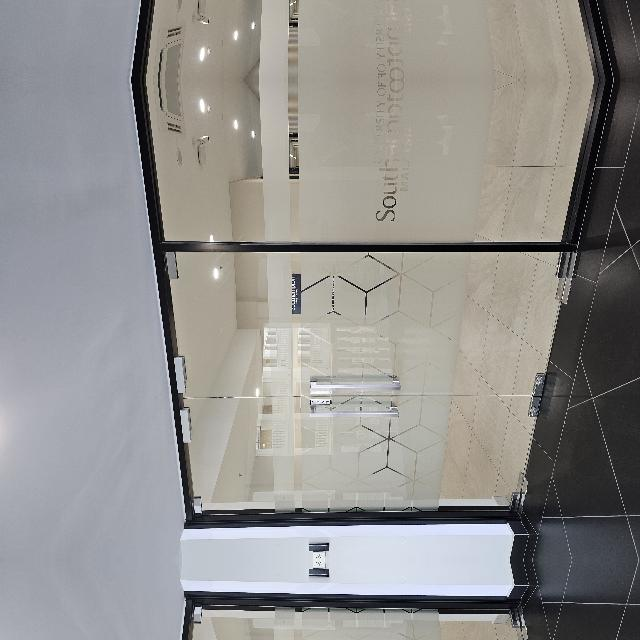door: (42, 243, 313, 640), (42, 465, 313, 640)
